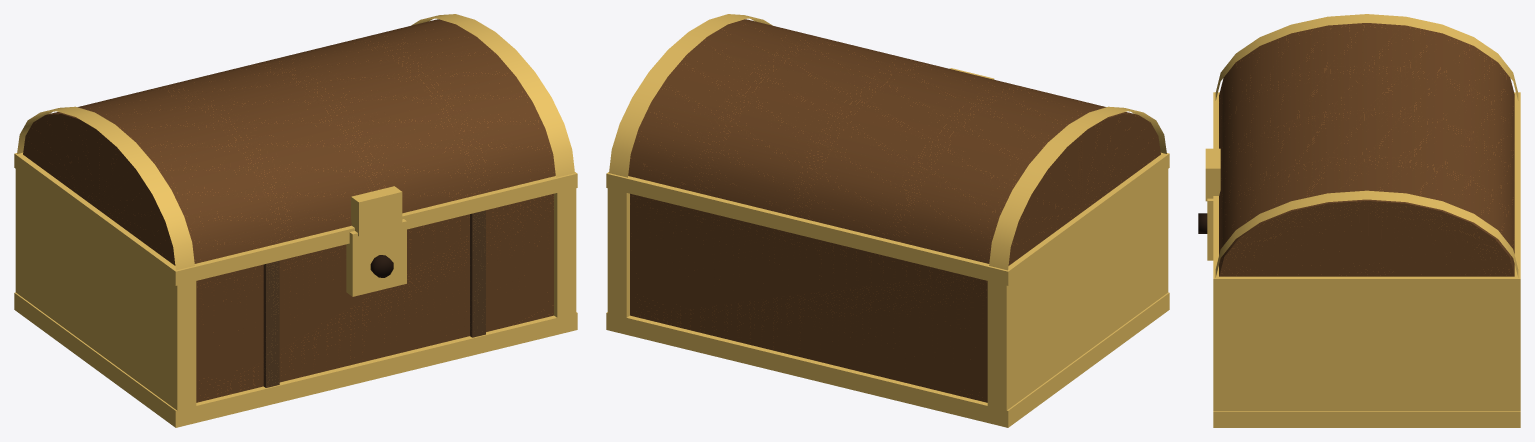
Rendered from chest.glb.
3 views of the same model, side by side, from view 1: azimuth 30°, elevation 25°; view 2: azimuth 150°, elevation 25°; view 3: azimuth 270°, elevation 25° (orthographic). The views are drawn at different scales.
Parts seen in each view (by area): view 1: prop_chest; view 2: prop_chest; view 3: prop_chest.
Part boxes in pixels (left/top/right/bottom): prop_chest: left=14, top=14, right=577, bottom=427; prop_chest: left=606, top=14, right=1169, bottom=427; prop_chest: left=1198, top=14, right=1520, bottom=427.
Size of the model in its own units: 1.48 by 0.842 by 1.08.
2 materials, 1 textured.
